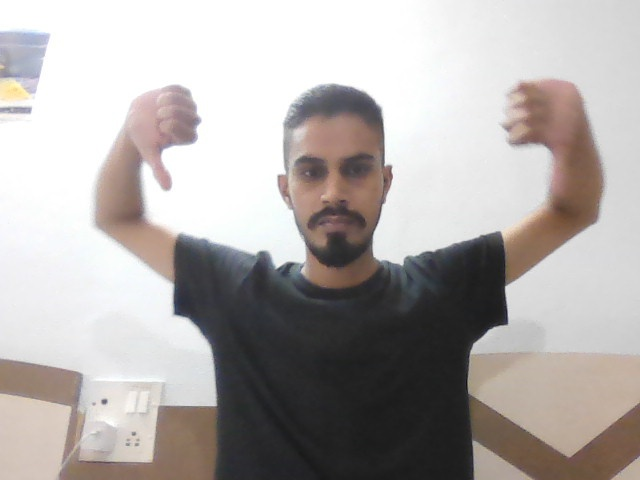ThumbsDown: (136, 81, 208, 192)
